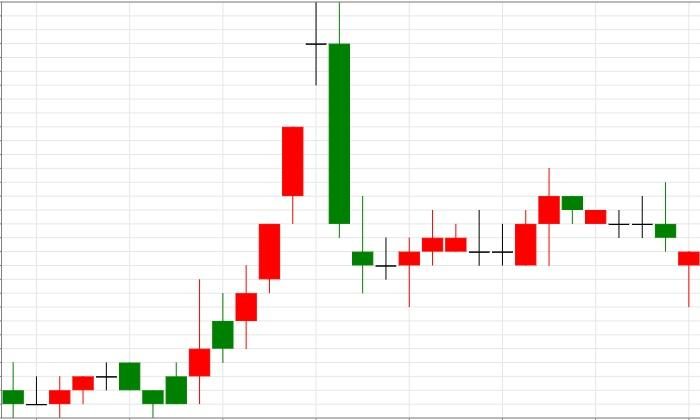evening_star_fall: (189, 2, 351, 404)
